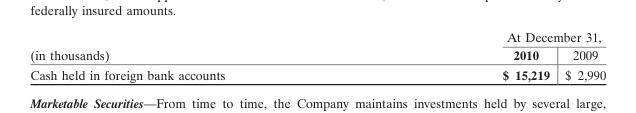table: (29, 29, 605, 82)
table column: (29, 29, 363, 82), (363, 29, 556, 82), (556, 29, 605, 82)
table column header: (29, 29, 605, 64)
table row: (29, 45, 605, 64), (29, 64, 605, 82), (29, 29, 605, 45)
table spanning cell: (29, 29, 363, 64), (363, 29, 605, 45)
